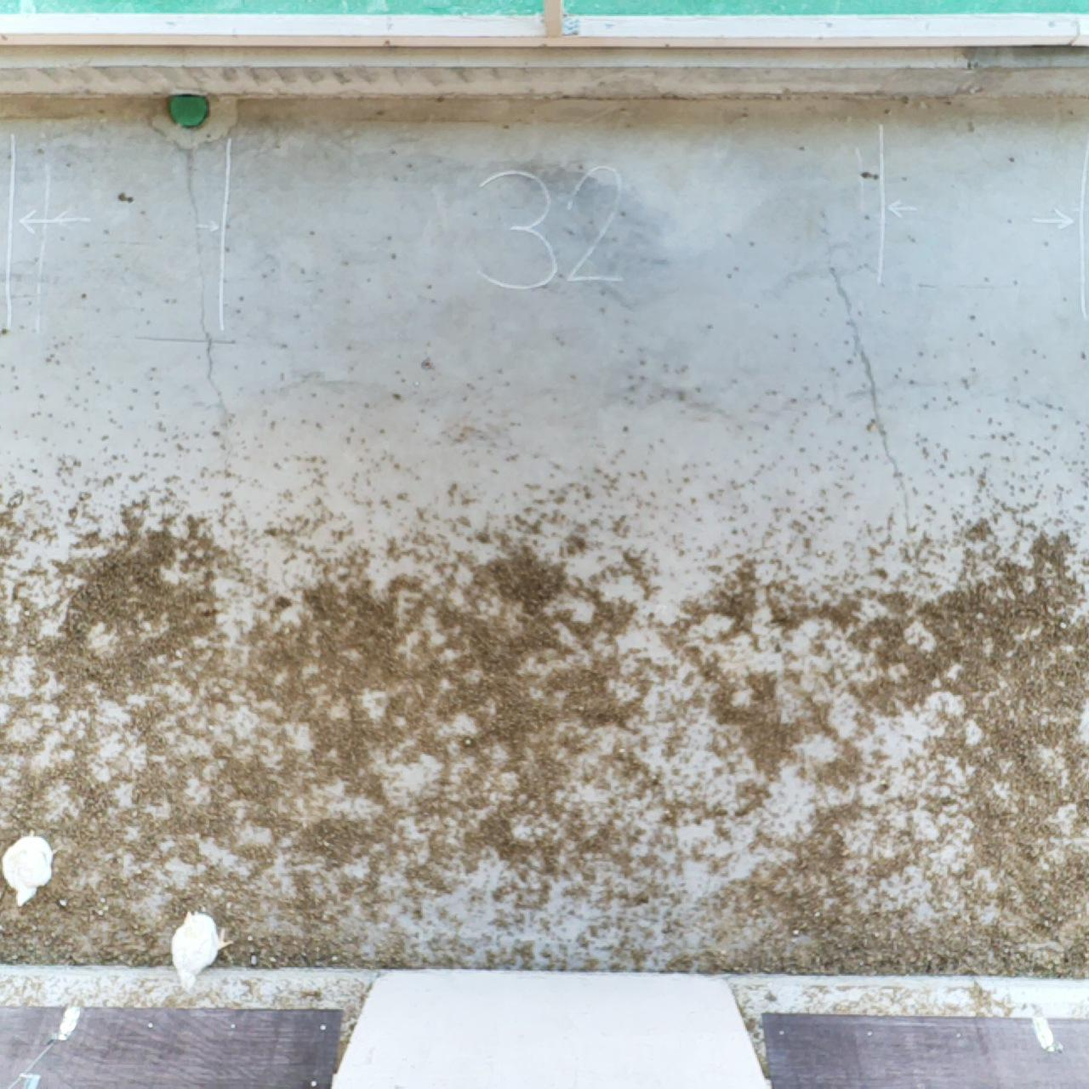chicken: (161, 904, 237, 998), (0, 824, 57, 910)
